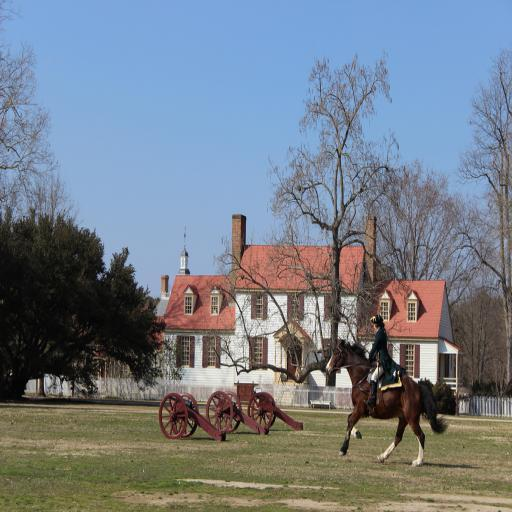horse: (324, 336, 448, 470)
